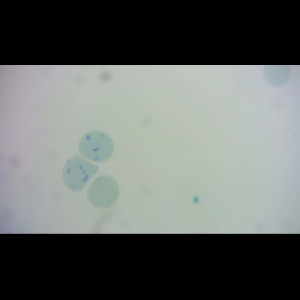aggregate reticulocyte: (61, 154, 100, 191), (77, 129, 114, 163)
erythrocyte: (86, 174, 121, 209)
